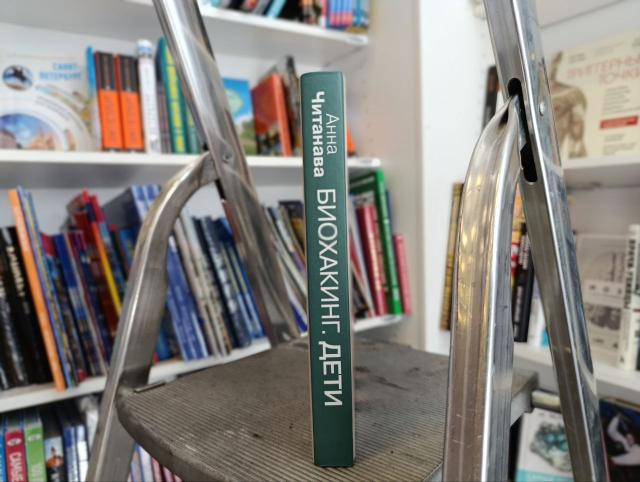book-s-spine: (301, 71, 353, 467)
